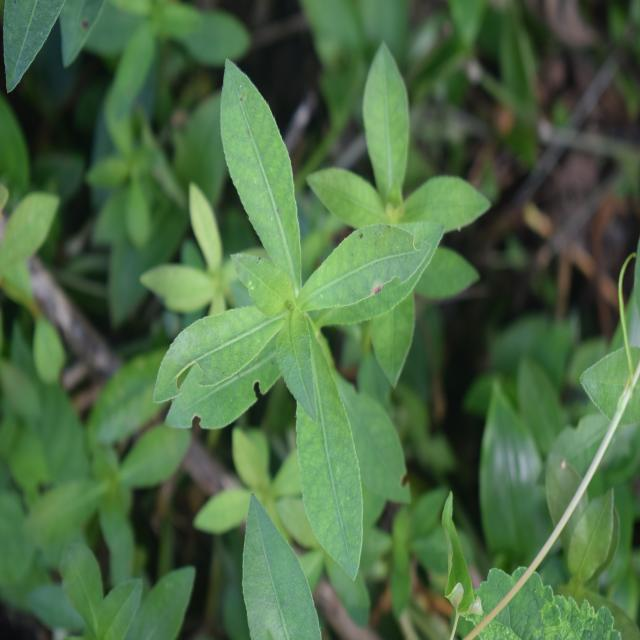Alligatorweed: (168, 47, 426, 574)
